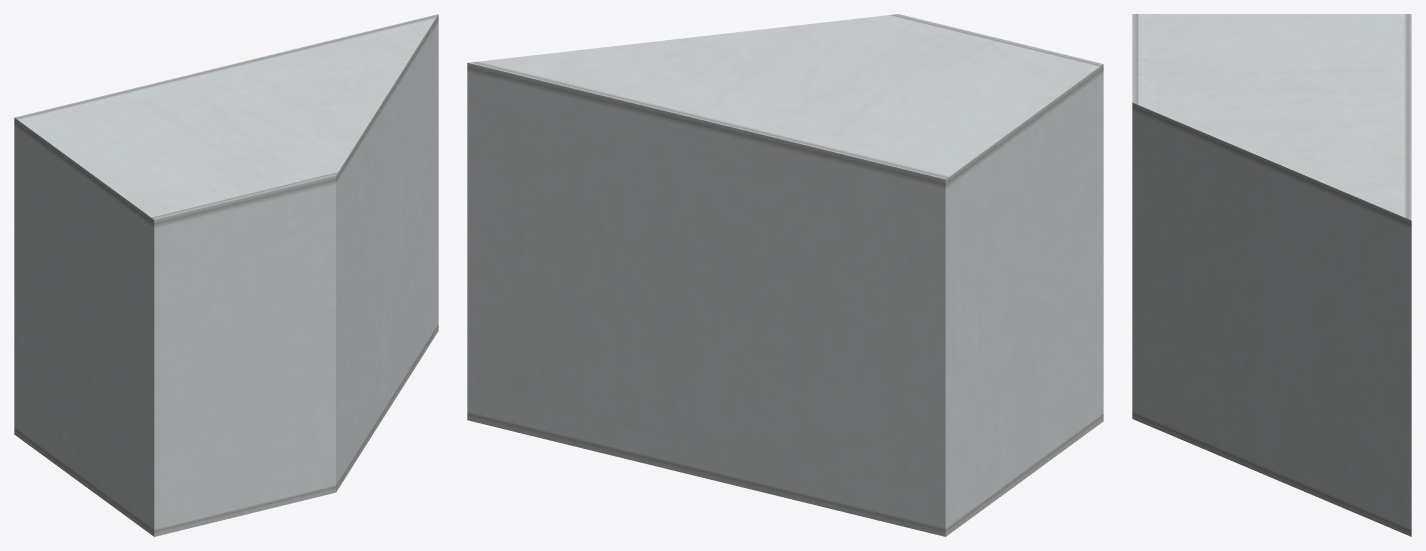
File: Bld_Corner_Ledge_01_R.fbx
The picture shows the model from 3 angles, left to right: view 1: azimuth 30°, elevation 25°; view 2: azimuth 150°, elevation 25°; view 3: azimuth 270°, elevation 25°; orthographic projection. The views are drawn at different scales.
Parts seen in each view (by area): view 1: Bld_Corner_Ledge_01_R; view 2: Bld_Corner_Ledge_01_R; view 3: Bld_Corner_Ledge_01_R.
Part boxes in pixels (box(x1,y1,x2,y2)): Bld_Corner_Ledge_01_R: box(14, 14, 438, 536); Bld_Corner_Ledge_01_R: box(467, 14, 1103, 536); Bld_Corner_Ledge_01_R: box(1132, 14, 1411, 536).
Size of the model in its own units: 0.7 by 0.5 by 0.4.
1 material, 1 textured.
